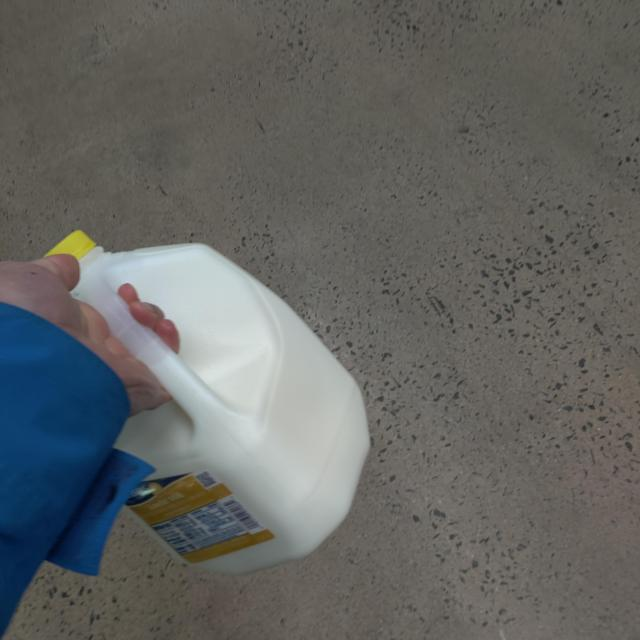Milk: (24, 190, 390, 588)
